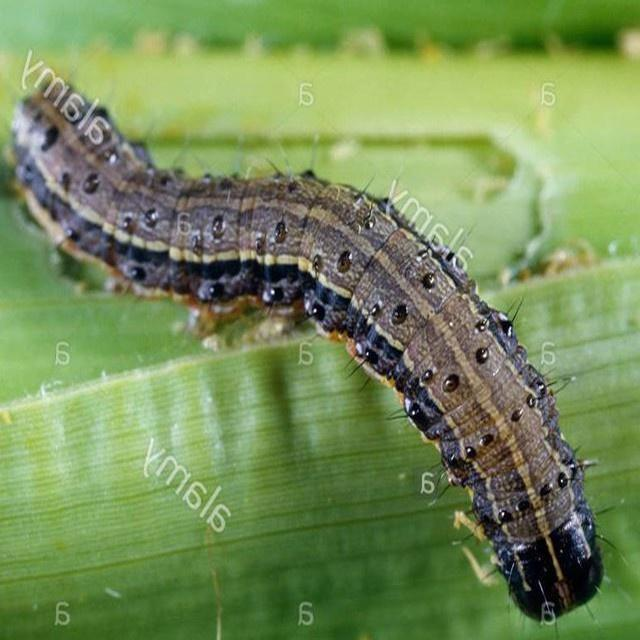gusano_cogollero: (7, 69, 616, 627)
